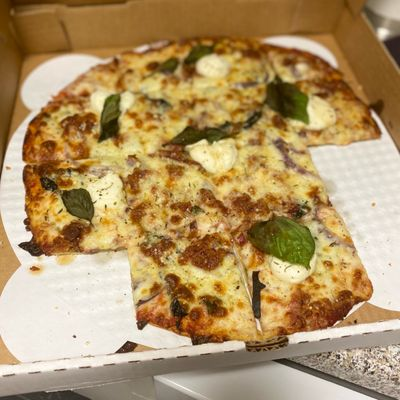sandwich: (10, 37, 374, 350)
